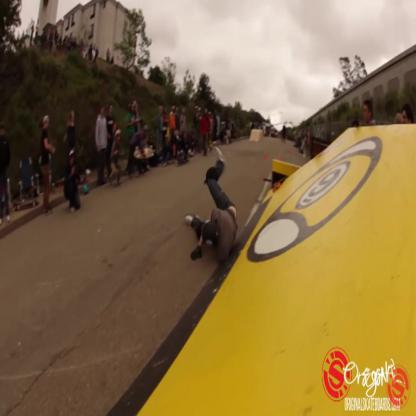Fall_Down: (184, 144, 240, 269)
